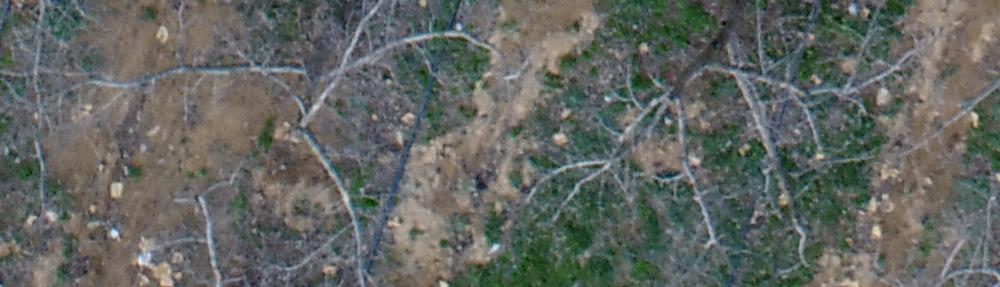apple: (519, 10, 938, 265)
